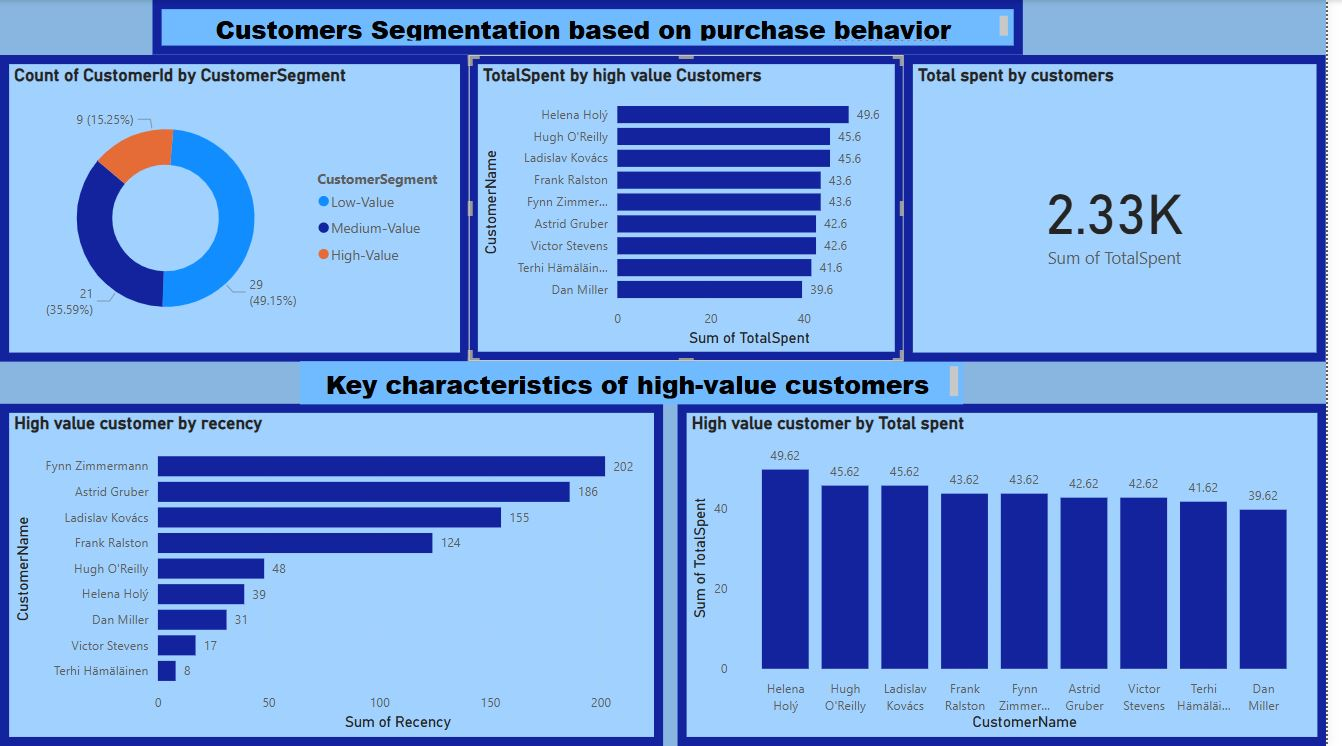

The dashboard page shown, as its layout file describes it:
{"tool":"powerbi","page":{"name":"Page 2","canvas":[1280,720],"ordinal":1},"visuals":[{"type":"donutChart","fields":{"Category":["customer_segmentss.CustomerSegment"],"Y":["CountNonNull(customer_segmentss.CustomerId)"]},"box":[9.6,67.2,443.2,255.2],"z":0},{"type":"clusteredBarChart","title":" TotalSpent by high value Customers","fields":{"Category":["high_value_customerss (2).CustomerName"],"Y":["Sum(high_value_customerss (2).TotalSpent)"]},"box":[465.2,67.2,377.4,255.2],"z":1000},{"type":"columnChart","title":"High value customer by PurchaseFrequency","fields":{"Category":["high_value_customerss (2).PurchaseFrequency"],"Y":["CountNonNull(high_value_customerss (2).CustomerId)"]},"box":[19.2,374.6,336.2,325.2],"z":2000},{"type":"clusteredBarChart","title":"High value customer  by recency","fields":{"Category":["high_value_customerss (2).CustomerName"],"Y":["Sum(high_value_customerss (2).Recency)"]},"box":[382.8,374.6,392.5,325.2],"z":3000},{"type":"columnChart","title":"High value customer by  Total spent","fields":{"Y":["Sum(high_value_customerss (2).TotalSpent)"],"Category":["high_value_customerss (2).CustomerName"]},"box":[789,373.2,452.8,325.2],"z":4000},{"type":"textbox","box":[290,332.2,640,37.8],"z":5000},{"type":"textbox","box":[146.8,0,839.8,42.5],"z":6000},{"type":"card","title":"Total spent by customers","fields":{"Values":["Sum(customer_segmentss.TotalSpent)"]},"box":[872.7,67.2,369.1,255.2],"z":7000}]}

Visuals, with their boxes in screenshot pixels (x1, y1, x2, y2), scaled from the page's 1280x720 canvas onto the 1342x746 screenshot:
donutChart - customer_segmentss.CustomerSegment x CountNonNull(customer_segmentss.CustomerId): 10,70,475,334
" TotalSpent by high value Customers" clusteredBarChart: 488,70,883,334
"High value customer by PurchaseFrequency" columnChart: 20,388,373,725
"High value customer  by recency" clusteredBarChart: 401,388,813,725
"High value customer by  Total spent" columnChart: 827,387,1302,724
textbox: 304,344,975,383
textbox: 154,0,1034,44
"Total spent by customers" card: 915,70,1302,334
